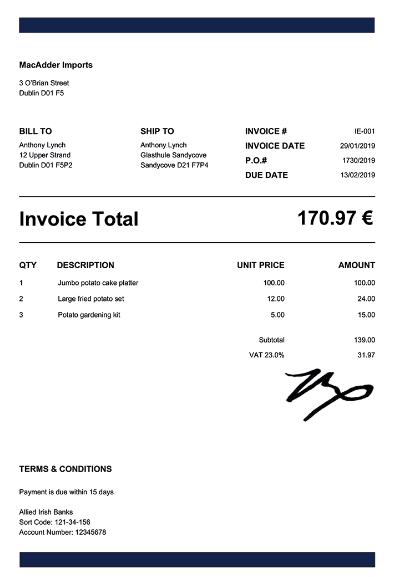Table: (7, 180, 384, 368)
